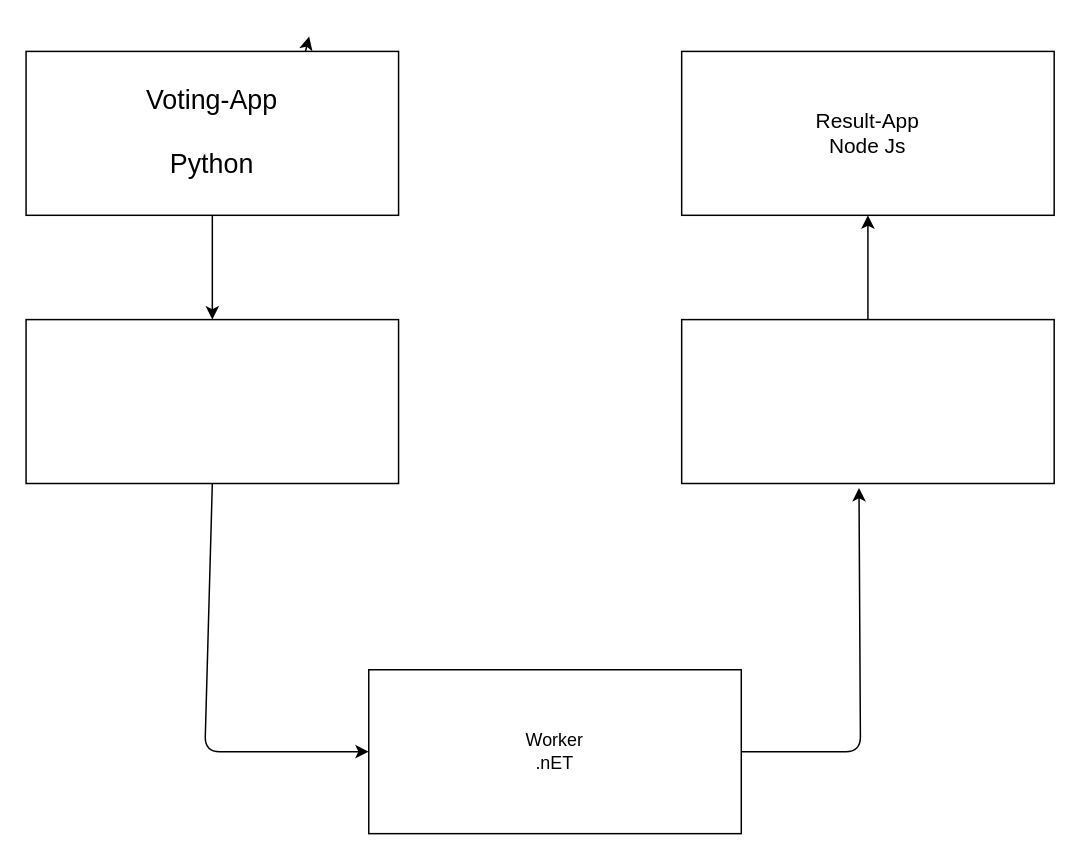
Some shapes in this 1080 by 860 pixel diagram are drawn without their labels. The shapes that lost their labels are listed below. From the top down, each one's centre as x and y in pixels, then its label:
At (x=212, y=401): "In-Memory-DB Redis".
At (x=867, y=401): "DB Postgresql".
